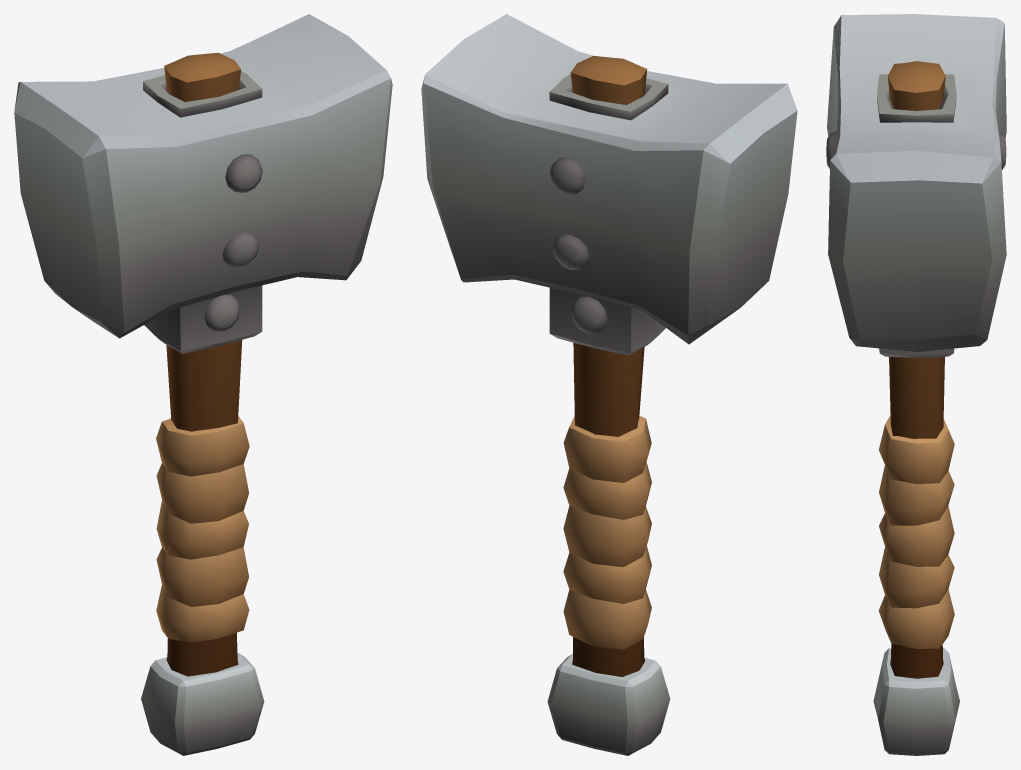
Rendered from Hammer_05.obj.
The picture shows the model from 3 angles, left to right: view 1: azimuth 30°, elevation 25°; view 2: azimuth 150°, elevation 25°; view 3: azimuth 270°, elevation 25°; orthographic projection.
Visible parts, largest first — view 1: Hammer_05; view 2: Hammer_05; view 3: Hammer_05.
Part boxes in pixels (x1,y1,x2,y2): Hammer_05: [14, 14, 392, 755]; Hammer_05: [421, 14, 797, 755]; Hammer_05: [826, 14, 1006, 755].
Size of the model in its own units: 0.5263 by 1.08 by 0.2641.
